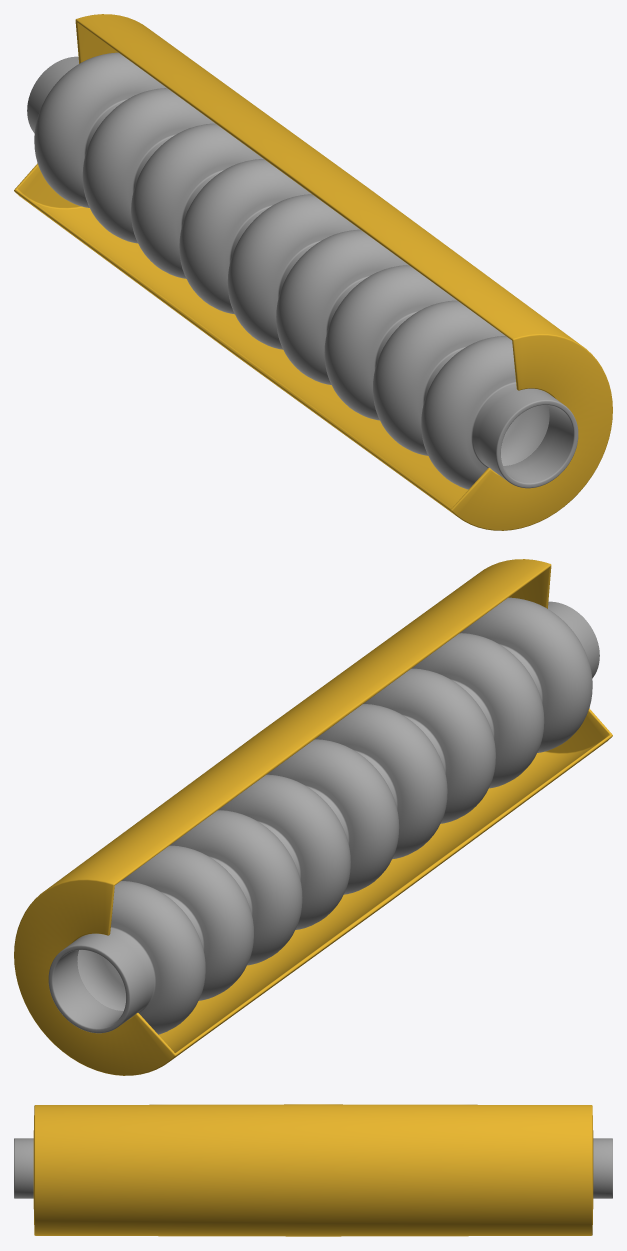
File: Cavity.glb
3 views of the same model, one above another, from view 1: azimuth 30°, elevation 25°; view 2: azimuth 150°, elevation 25°; view 3: azimuth 270°, elevation 25° (orthographic). The views are drawn at different scales.
Visible parts, largest first — view 1: Torus.001; view 2: Torus.001; view 3: Torus.001.
Part boxes in pixels (box(x1,y1,x2,y2)): Torus.001: box(14, 14, 612, 530); Torus.001: box(14, 559, 612, 1075); Torus.001: box(14, 1104, 612, 1236).
Bounding box in the file's own units: 1.39 × 1.58 × 6.92.
